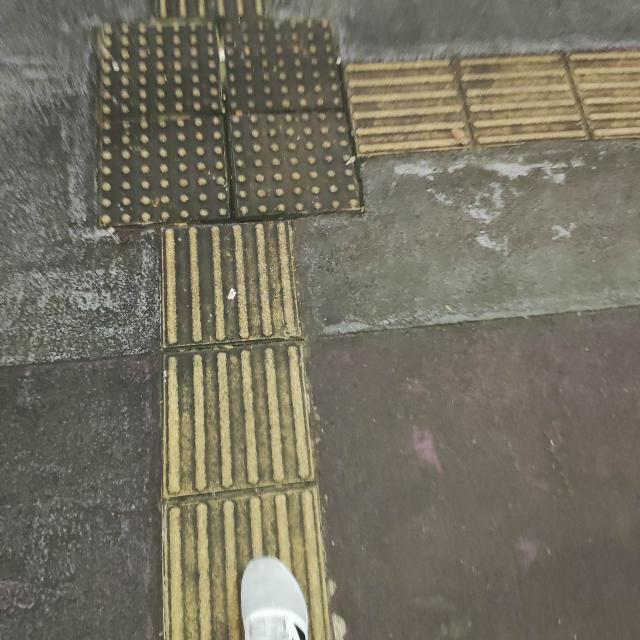kanan: (83, 34, 547, 302)
